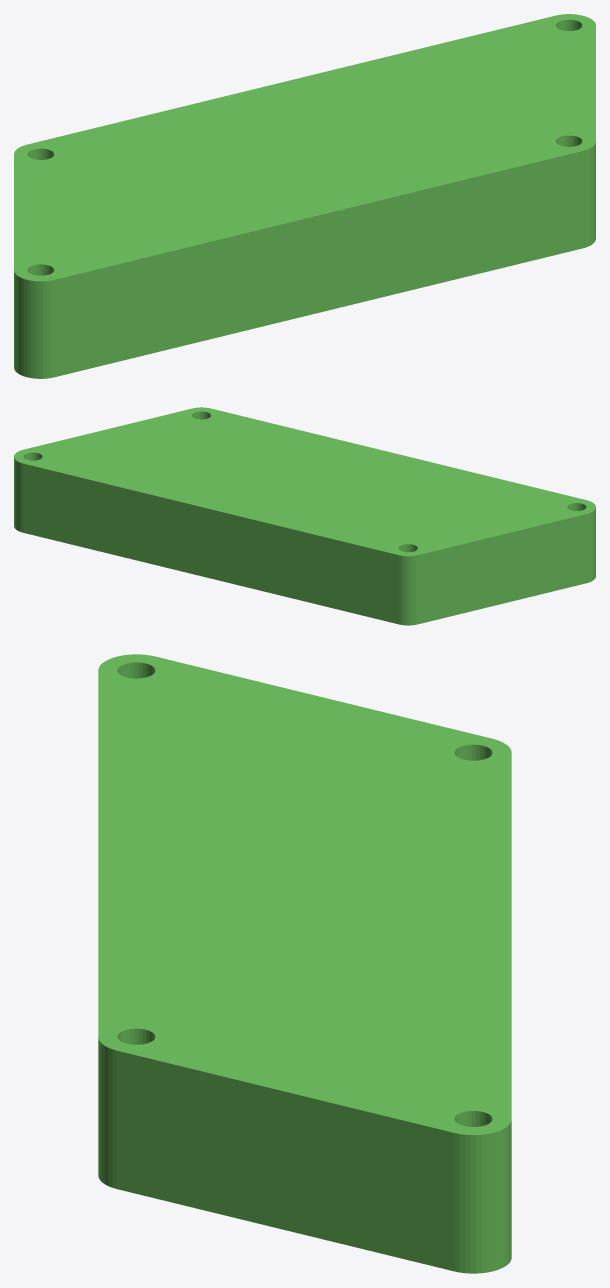
Rendered from converted-uTXInF1QiS5VVMIOBBQr-1752654356491-wireframe.glb.
3 renders of one model, top to bottom at view 1: azimuth 30°, elevation 25°; view 2: azimuth 150°, elevation 25°; view 3: azimuth 270°, elevation 25°, orthographic. The views are drawn at different scales.
Visible parts, largest first — view 1: MeshNode; view 2: MeshNode; view 3: MeshNode.
Part boxes in pixels (x1,y1,x2,y2): MeshNode: [14, 14, 595, 378]; MeshNode: [14, 407, 595, 625]; MeshNode: [98, 654, 511, 1273].
Size of the model in its own units: 10 by 1.34 by 3.63.
